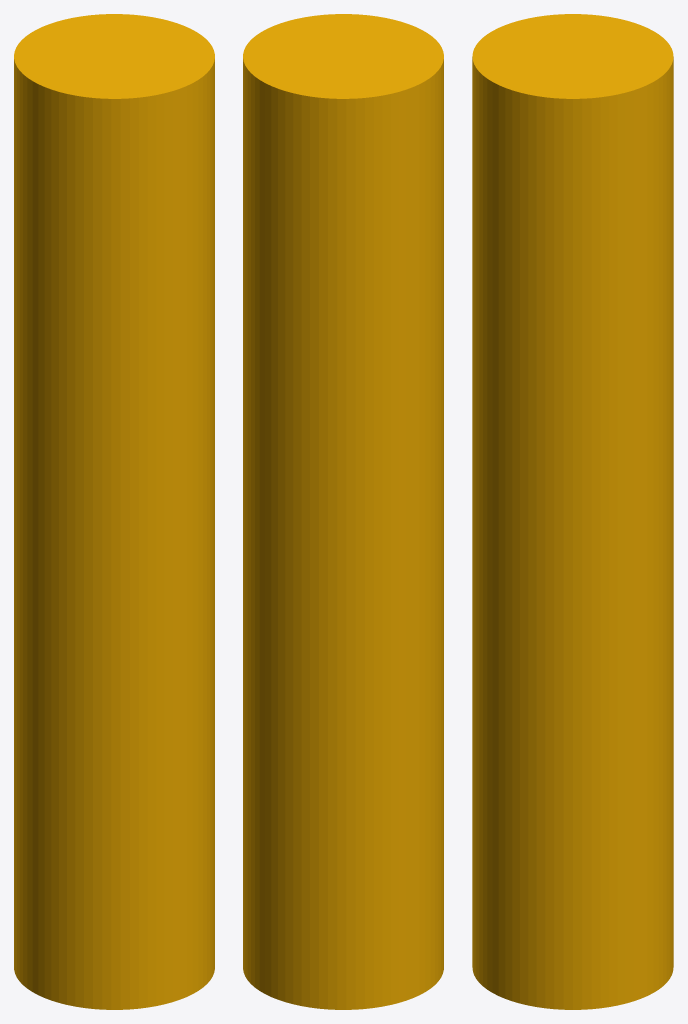
The picture shows the model from 3 angles, left to right: view 1: azimuth 30°, elevation 25°; view 2: azimuth 150°, elevation 25°; view 3: azimuth 270°, elevation 25°; orthographic projection.
Parts seen in each view (by area): view 1: 5abfbaa0c2b35e0f435f5f96; view 2: 5abfbaa0c2b35e0f435f5f96; view 3: 5abfbaa0c2b35e0f435f5f96.
Boxes of the visible parts, <box> form: 5abfbaa0c2b35e0f435f5f96: <box>14,14,214,1009</box>; 5abfbaa0c2b35e0f435f5f96: <box>243,14,443,1009</box>; 5abfbaa0c2b35e0f435f5f96: <box>472,14,673,1009</box>.
Bounding box in the file's own units: 0.01 × 0.01 × 0.05.
